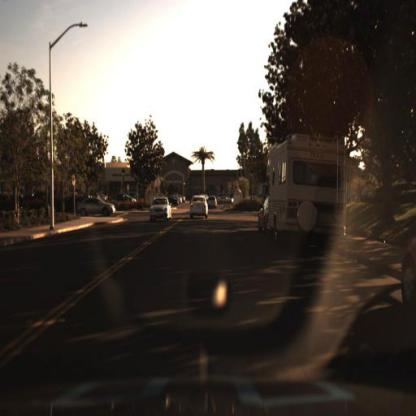car: (398, 236, 415, 314), (75, 193, 117, 217), (150, 192, 172, 232), (146, 196, 174, 226), (257, 196, 271, 240), (187, 193, 209, 218), (112, 194, 136, 210), (216, 192, 236, 206), (208, 194, 219, 212)
truck: (268, 131, 350, 243)
